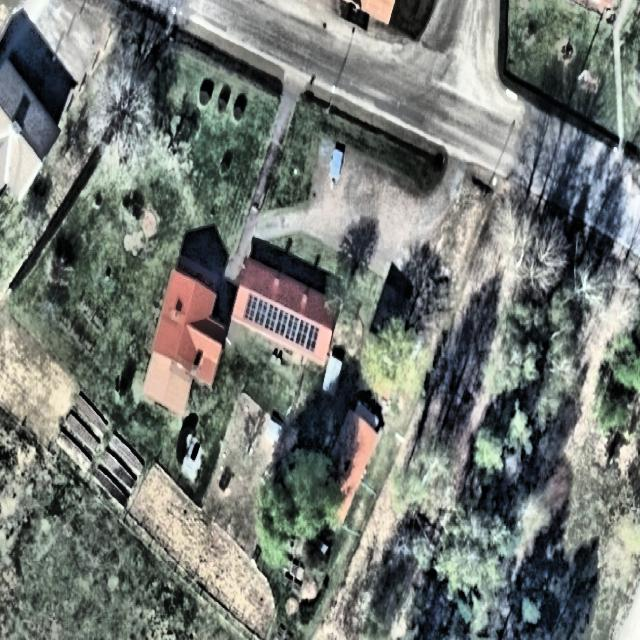roof_pv: (241, 295, 321, 352)
